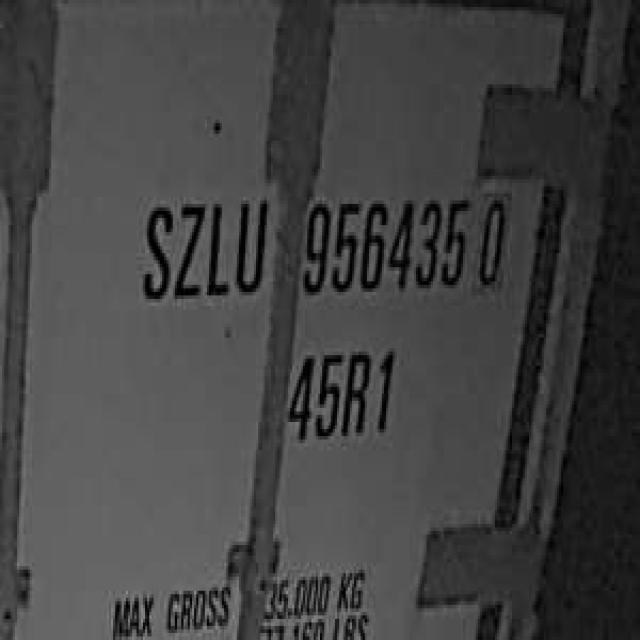dv: (474, 180, 512, 296)
owner: (132, 180, 271, 310)
serial: (296, 179, 469, 306)
size: (284, 334, 401, 450)
